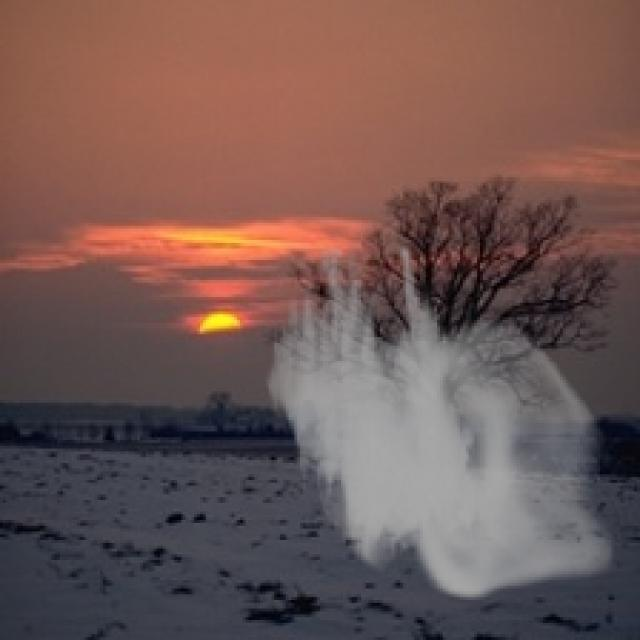Smoke: (262, 245, 614, 600)
